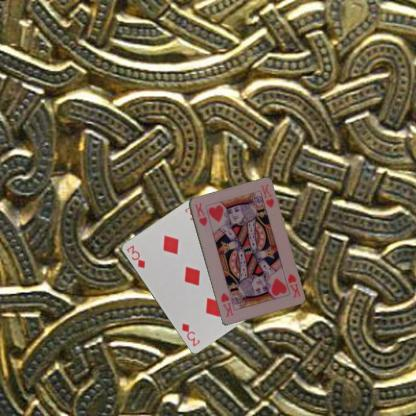3d: (124, 243, 146, 269)
Kh: (285, 271, 302, 299), (192, 200, 209, 227)
